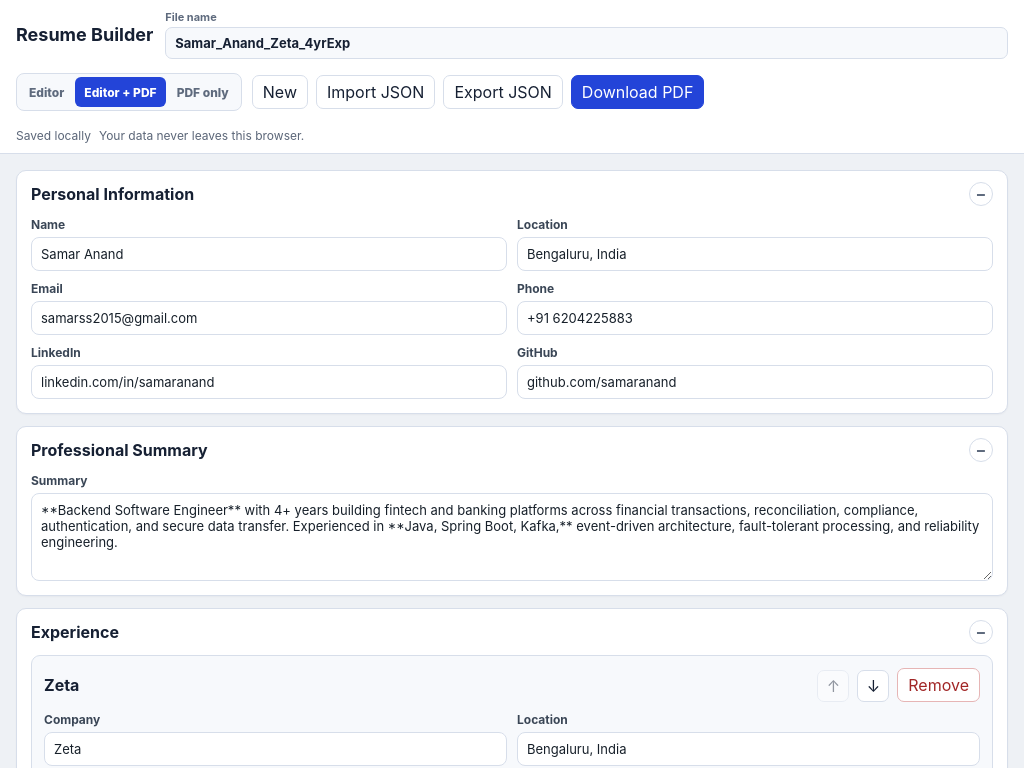
App › selecting Blank Template loads a blank resume template
Click the button "New": [280, 92] box [252,75,308,109]
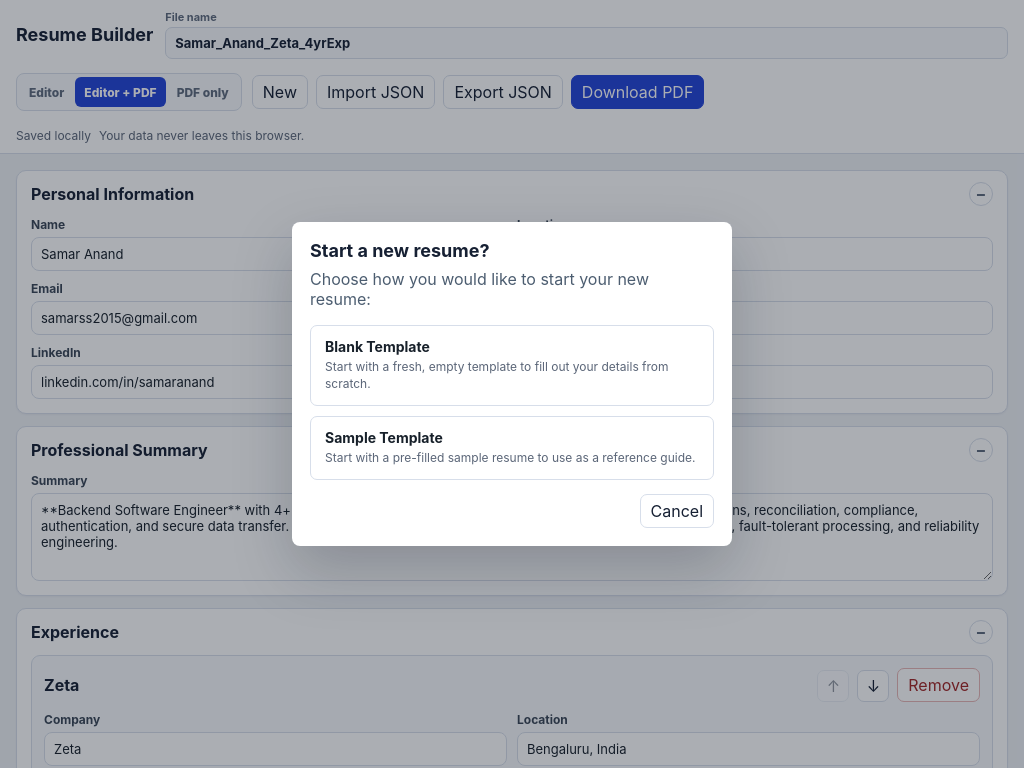
Click the button "Blank Template": [512, 366] box [310,325,714,406]
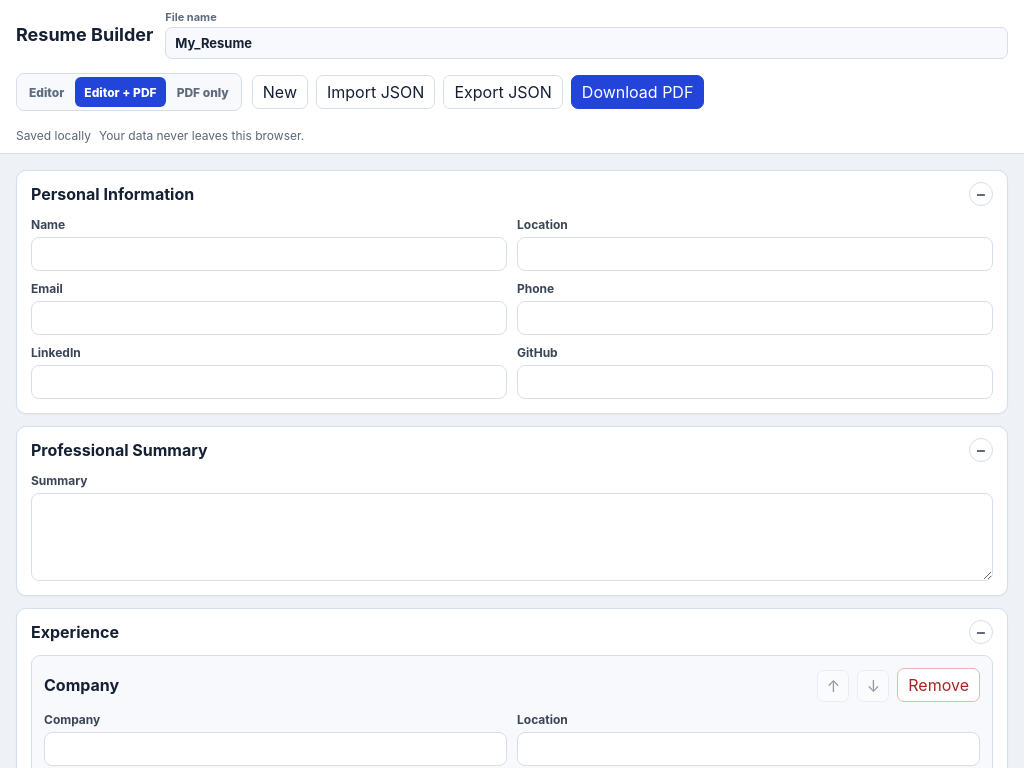
Expected: the heading "Start a new resume?" is gone
Expected: the field named "Resume file name" holds "My_Resume", [165,27,1008,59]
